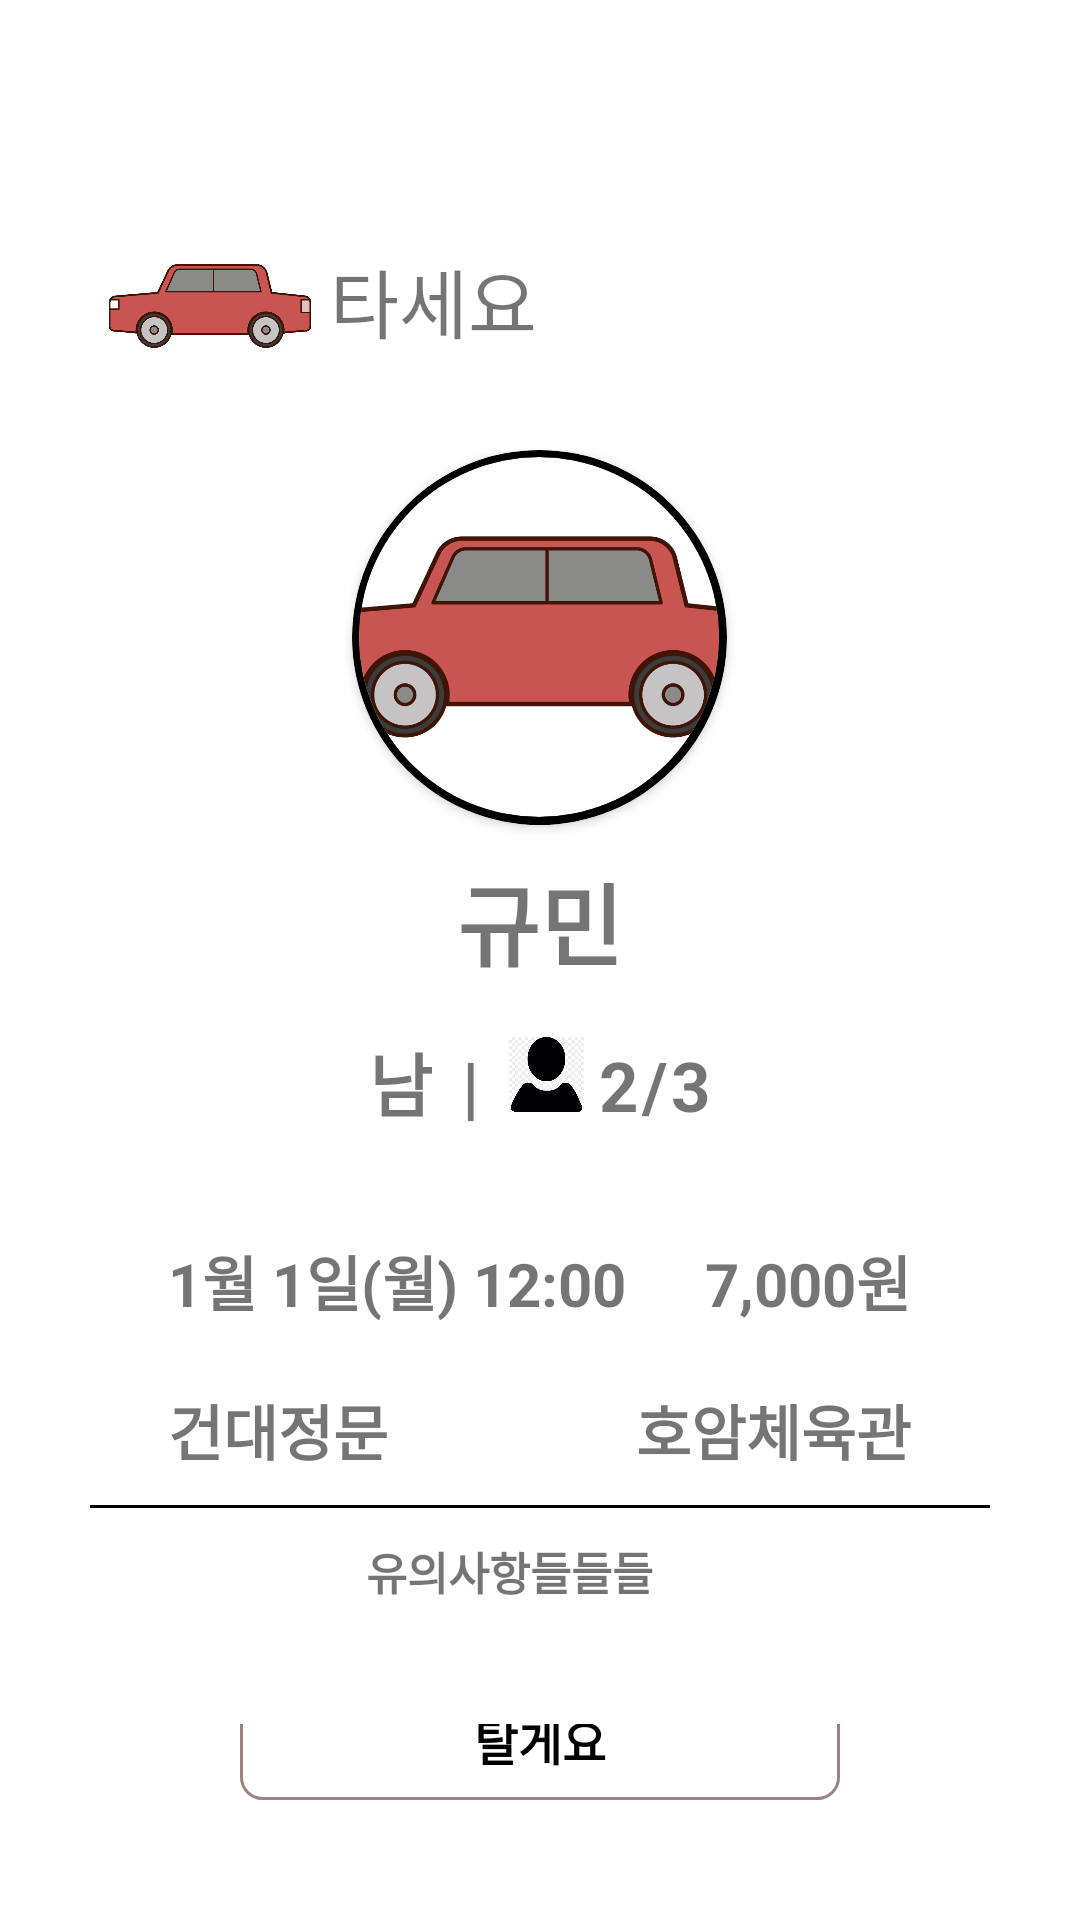

Icon click points for this 1080 x 1920 phone screenshot, format [x,y]:
car: [210,306], [539,637]
people: [546,1074]
